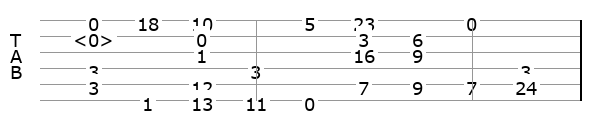0: (88, 12, 103, 29), (196, 28, 211, 45), (304, 92, 319, 109), (466, 12, 481, 29)
1: (142, 92, 157, 109), (196, 44, 211, 61)
10: (191, 12, 217, 29)
11: (245, 92, 271, 109)
12: (191, 76, 217, 93)
13: (191, 92, 217, 109)
16: (353, 44, 379, 61)
18: (137, 12, 163, 29)
23: (353, 12, 379, 29)
24: (515, 76, 541, 93)
3: (88, 60, 103, 77), (88, 76, 103, 93), (250, 60, 265, 77), (358, 28, 373, 45), (520, 60, 535, 77)
5: (304, 12, 319, 29)
6: (412, 28, 427, 45)
7: (358, 76, 373, 93), (466, 76, 481, 93)
9: (412, 44, 427, 61), (412, 76, 427, 93)
harmonic: (73, 28, 118, 45)
